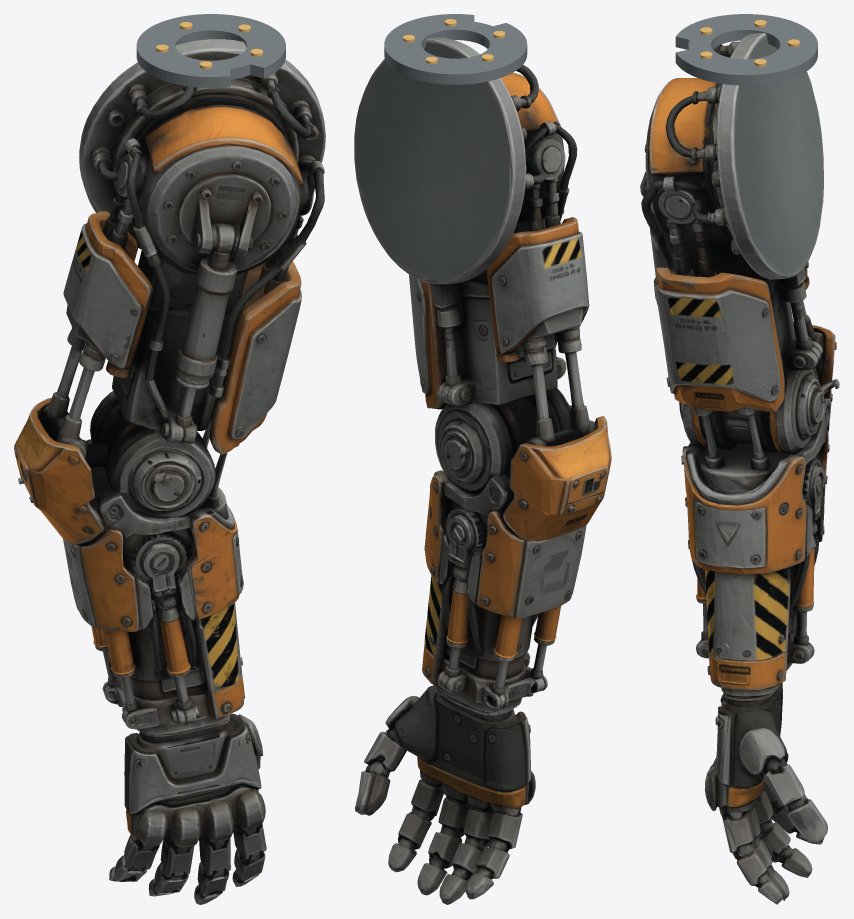
File: implant_cargo_arm.glb
The picture shows the model from 3 angles, left to right: view 1: azimuth 30°, elevation 25°; view 2: azimuth 150°, elevation 25°; view 3: azimuth 270°, elevation 25°; orthographic projection. The views are drawn at different scales.
Visible parts, largest first — view 1: world, keyed_flange; view 2: world, keyed_flange; view 3: world, keyed_flange.
Boxes of the visible parts, left/top/right/bottom form: world: left=14, top=39, right=325, bottom=904; keyed_flange: left=136, top=14, right=285, bottom=87; world: left=354, top=37, right=611, bottom=904; keyed_flange: left=384, top=14, right=527, bottom=84; world: left=640, top=33, right=839, bottom=904; keyed_flange: left=675, top=14, right=817, bottom=85.
Size of the model in its own units: 0.2592 by 0.7799 by 0.1653.
3 materials, 1 textured.
